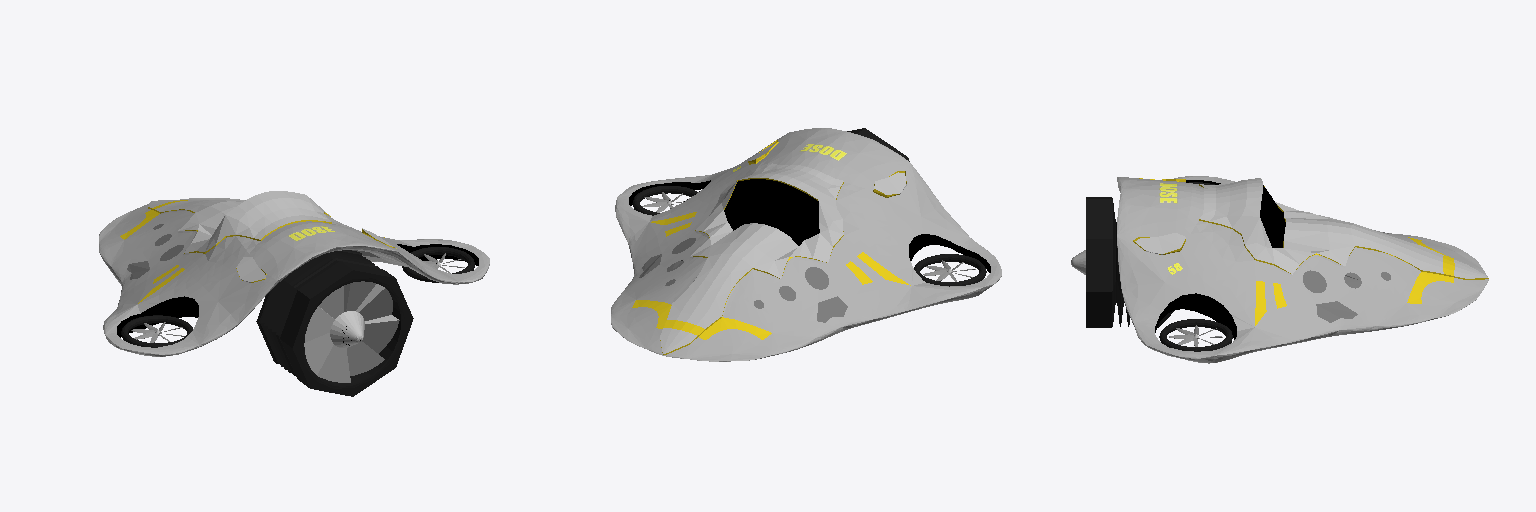
3 renders of one model, left to right at view 1: azimuth 30°, elevation 25°; view 2: azimuth 150°, elevation 25°; view 3: azimuth 270°, elevation 25°, orthographic.
Visible parts, largest first — view 1: Schiffsk�rper, Turbine__unbeweglicher_Teil, Turbine__beweglicher_Teil, Cone001, Torus001, Torus002; view 2: Schiffsk�rper, Gitter, Torus001, Klappenoberseite, Torus002; view 3: Schiffsk�rper, Turbine__unbeweglicher_Teil, Torus002, Gitter, 58, Klappenoberseite.
Part boxes in pixels (left/top/right/bottom): Schiffsk�rper: left=99, top=191, right=489, bottom=356; Turbine__unbeweglicher_Teil: left=256, top=250, right=413, bottom=396; Turbine__beweglicher_Teil: left=304, top=281, right=399, bottom=382; Cone001: left=330, top=311, right=364, bottom=347; Torus001: left=121, top=315, right=192, bottom=347; Torus002: left=402, top=247, right=474, bottom=282; Schiffsk�rper: left=611, top=128, right=1001, bottom=361; Gitter: left=665, top=238, right=828, bottom=308; Torus001: left=914, top=254, right=986, bottom=286; Klappenoberseite: left=639, top=254, right=847, bottom=322; Torus002: left=632, top=186, right=697, bottom=215; Schiffsk�rper: left=1117, top=176, right=1488, bottom=363; Turbine__unbeweglicher_Teil: left=1086, top=197, right=1173, bottom=327; Torus002: left=1159, top=319, right=1232, bottom=351; Gitter: left=1303, top=232, right=1390, bottom=292; 58: left=1162, top=251, right=1188, bottom=281; Klappenoberseite: left=1316, top=301, right=1357, bottom=322.
Size of the model in its own units: 142 by 51.06 by 138.
Materials: 9 (3 with a texture image).